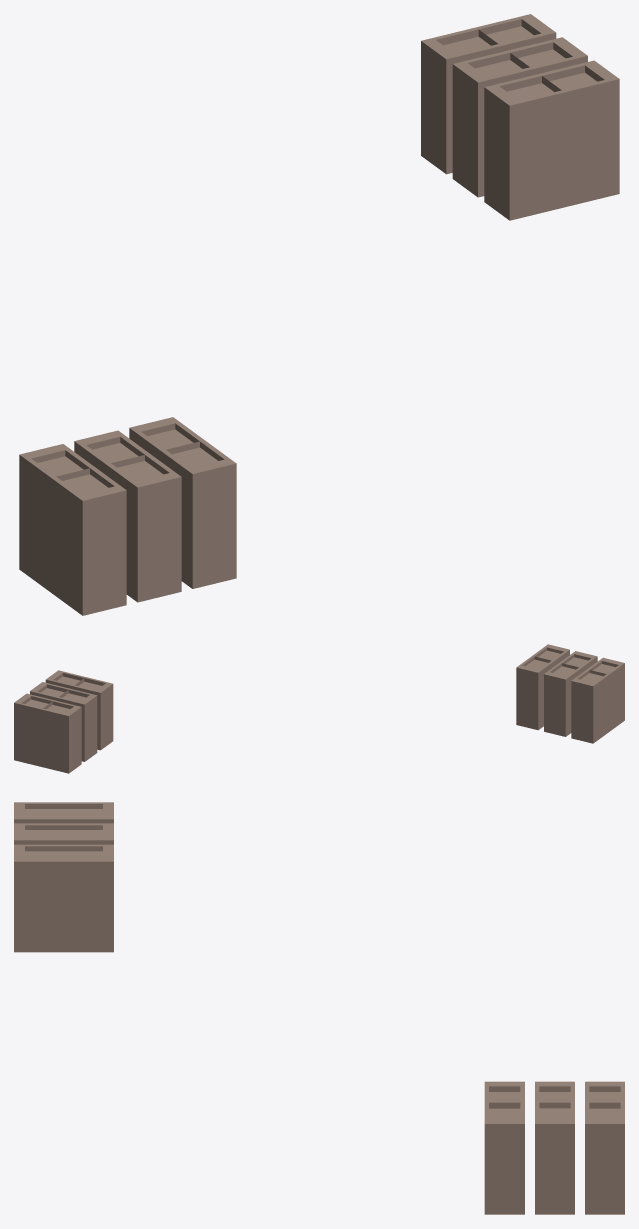
The model's file is rmas.glb.
3 renders of one model, top to bottom at view 1: azimuth 30°, elevation 25°; view 2: azimuth 150°, elevation 25°; view 3: azimuth 270°, elevation 25°, orthographic. The views are drawn at different scales.
Parts seen in each view (by area): view 1: RMA1, RMA2; view 2: RMA1, RMA2; view 3: RMA2, RMA1.
Boxes of the visible parts, bbox=[...] form: RMA1: bbox=[19, 417, 236, 615]; RMA2: bbox=[421, 14, 619, 220]; RMA1: bbox=[516, 644, 624, 743]; RMA2: bbox=[14, 670, 113, 773]; RMA2: bbox=[484, 1081, 624, 1214]; RMA1: bbox=[14, 802, 113, 952].
Size of the model in its own units: 15.2 by 2 by 12.2.
